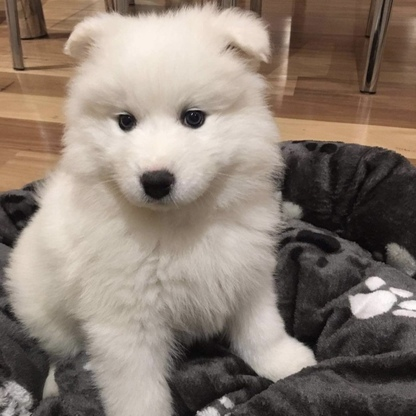samoyed: (5, 2, 325, 416)
